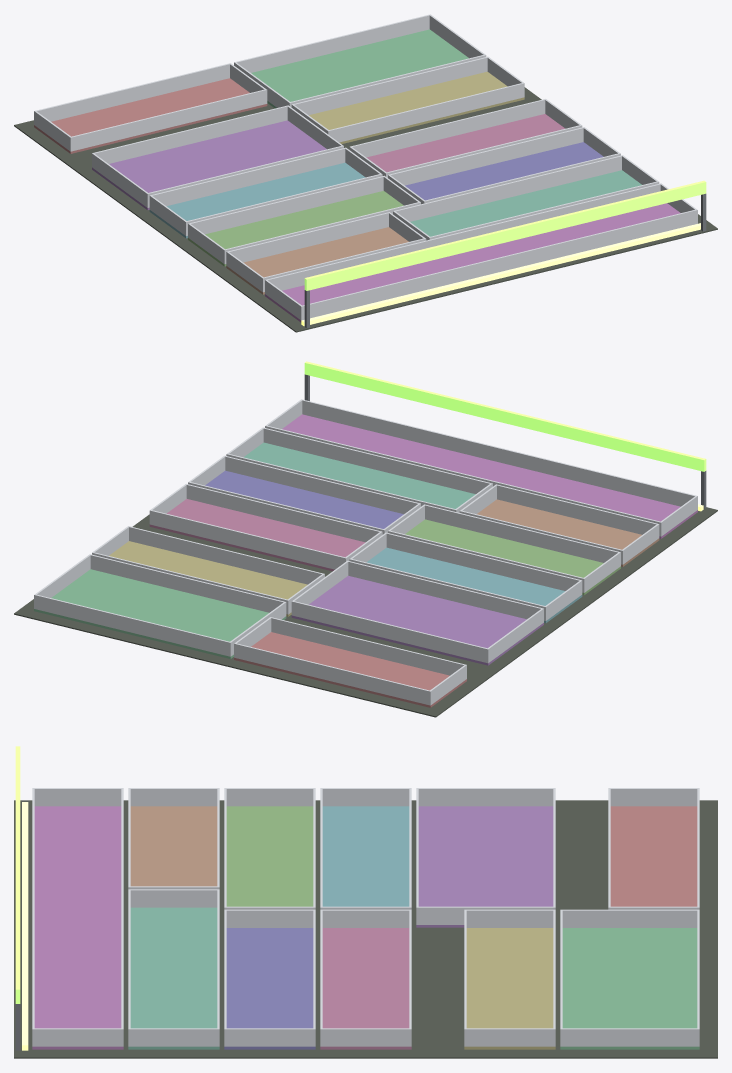
Rendered from hall-teamsters.glb.
The picture shows the model from 3 angles, top to bottom: view 1: azimuth 30°, elevation 25°; view 2: azimuth 150°, elevation 25°; view 3: azimuth 270°, elevation 25°; orthographic projection. The views are drawn at different scales.
Visible parts, largest first — view 1: Teamsters; view 2: Teamsters; view 3: Teamsters.
Boxes of the visible parts, left/top/right/bottom form: Teamsters: left=14, top=14, right=717, bottom=332; Teamsters: left=14, top=361, right=717, bottom=717; Teamsters: left=14, top=746, right=717, bottom=1058.
Size of the model in its own units: 38 by 4.3 by 44.
